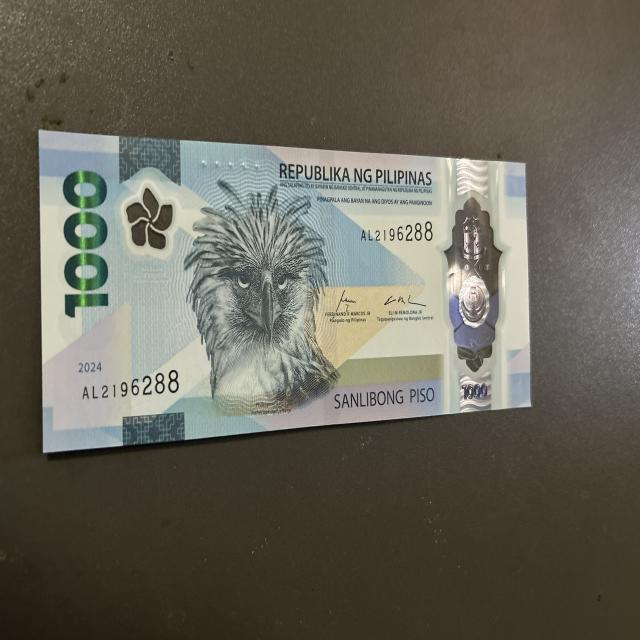clear_window: (443, 192, 510, 371)
eagle: (188, 182, 342, 408)
sampaguita: (127, 187, 176, 250)
value: (53, 168, 116, 318)
